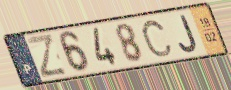4: (92, 25, 119, 69)
6: (59, 30, 92, 74)
8: (115, 22, 144, 65)
C: (140, 19, 174, 59)
J: (177, 14, 198, 54)
Z: (25, 33, 70, 81)
